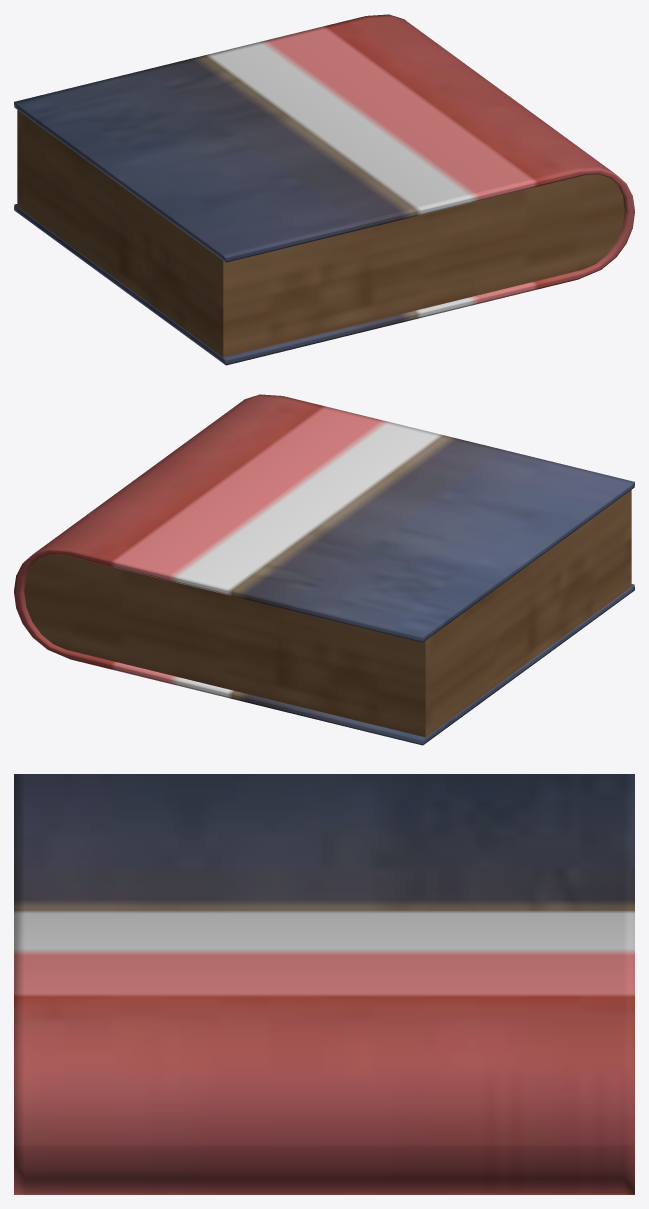
File: BOOK 4.fbx
3 renders of one model, top to bottom at view 1: azimuth 30°, elevation 25°; view 2: azimuth 150°, elevation 25°; view 3: azimuth 270°, elevation 25°, orthographic. The views are drawn at different scales.
Parts seen in each view (by area): view 1: BOOK 4; view 2: BOOK 4; view 3: BOOK 4.
Part boxes in pixels (x1,y1,x2,y2): BOOK 4: (14,14,634,365); BOOK 4: (14,394,634,745); BOOK 4: (14,774,634,1194).
Size of the model in its own units: 0.6702 by 0.6018 by 0.1699.
